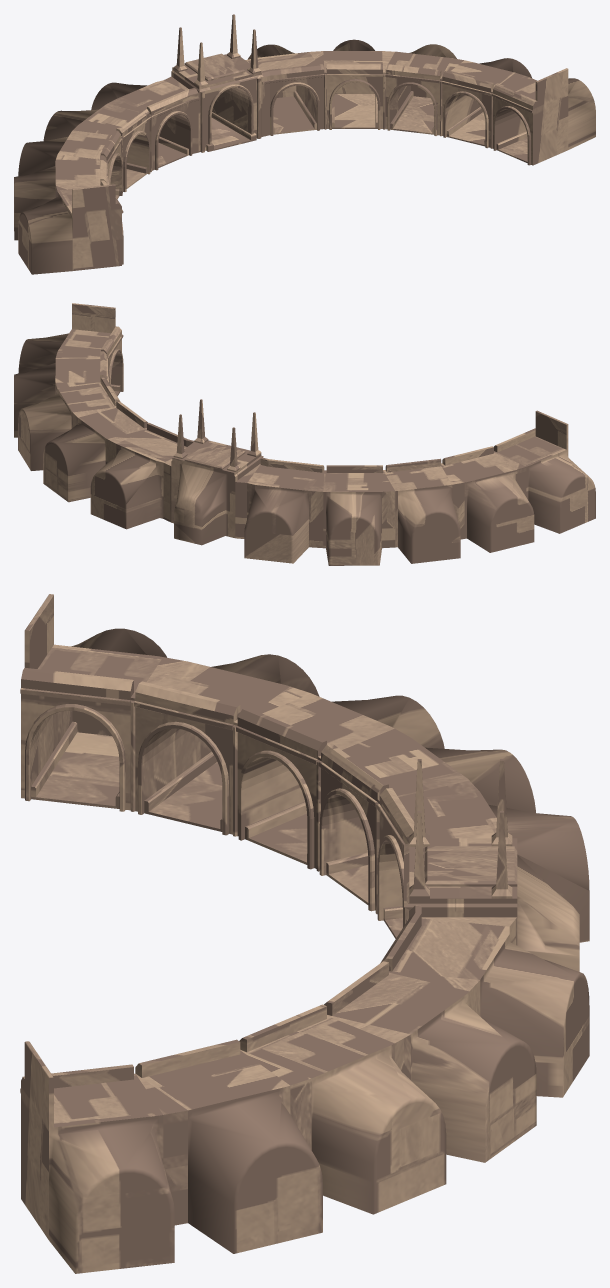
The model's file is stadium v.2.0.fbx.
3 views of the same model, one above another, from view 1: azimuth 30°, elevation 25°; view 2: azimuth 150°, elevation 25°; view 3: azimuth 270°, elevation 25° (orthographic). The views are drawn at different scales.
Visible parts, largest first — view 1: stadium; view 2: stadium; view 3: stadium.
Part boxes in pixels (left/top/right/bottom): stadium: left=14, top=14, right=595, bottom=274; stadium: left=14, top=303, right=595, bottom=565; stadium: left=20, top=594, right=589, bottom=1273.
Size of the model in its own units: 2358 by 428 by 1030.
